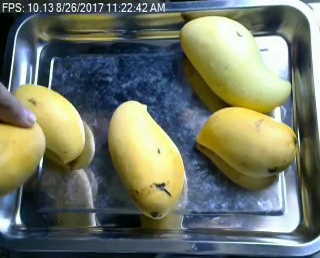Mango: (181, 15, 291, 112), (109, 100, 184, 218), (194, 106, 298, 176), (12, 83, 86, 164), (0, 121, 46, 190)
